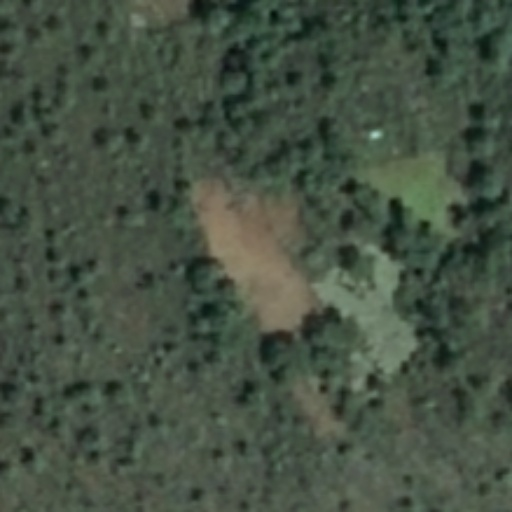landslide: (191, 176, 319, 334)
